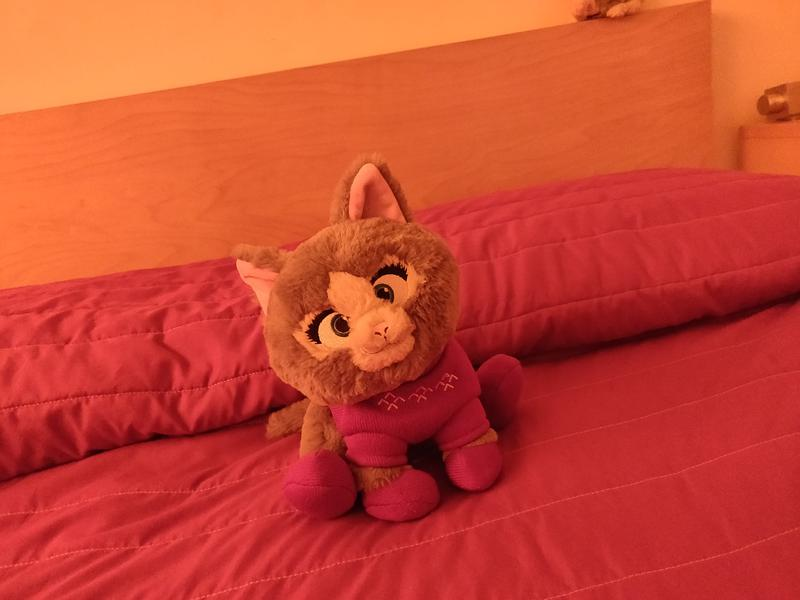kitten: (208, 154, 548, 529)
